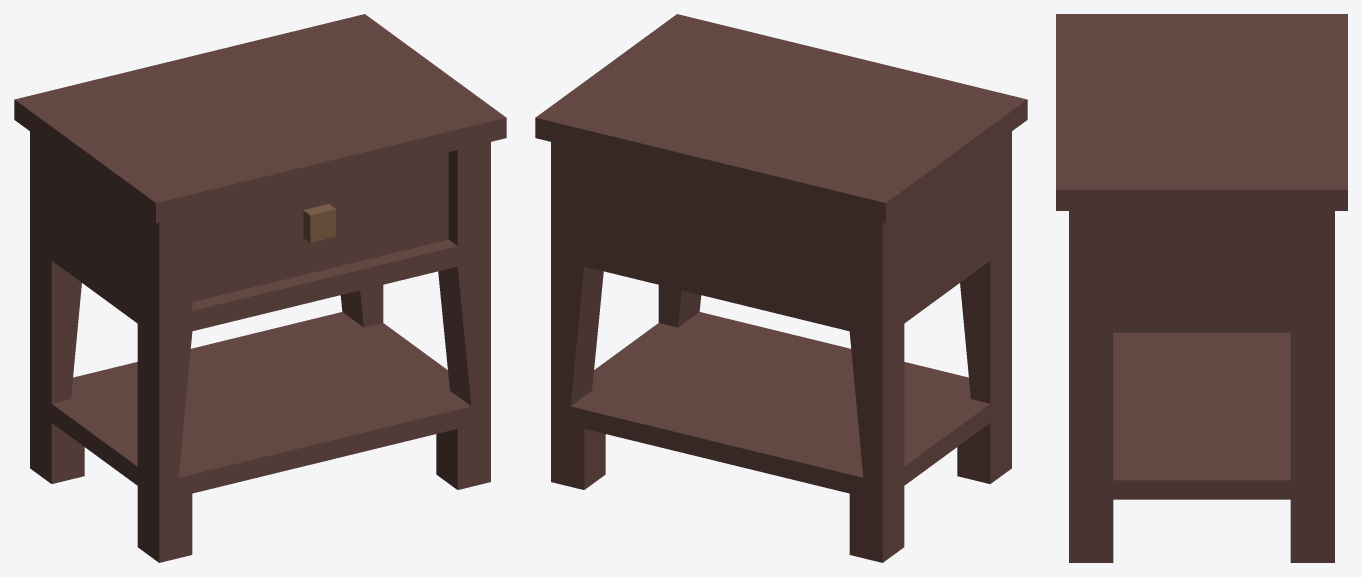
Rendered from mesa de cabeceira.fbx.
3 renders of one model, left to right at view 1: azimuth 30°, elevation 25°; view 2: azimuth 150°, elevation 25°; view 3: azimuth 270°, elevation 25°, orthographic. The views are drawn at different scales.
Parts seen in each view (by area): view 1: Mesa de Cabeceira; view 2: Mesa de Cabeceira; view 3: Mesa de Cabeceira.
Boxes of the visible parts, x1=… form: Mesa de Cabeceira: x1=14, y1=14, x2=506, y2=562; Mesa de Cabeceira: x1=535, y1=14, x2=1027, y2=562; Mesa de Cabeceira: x1=1056, y1=14, x2=1347, y2=562.
Bounding box in the file's own units: 50 × 50 × 35.
